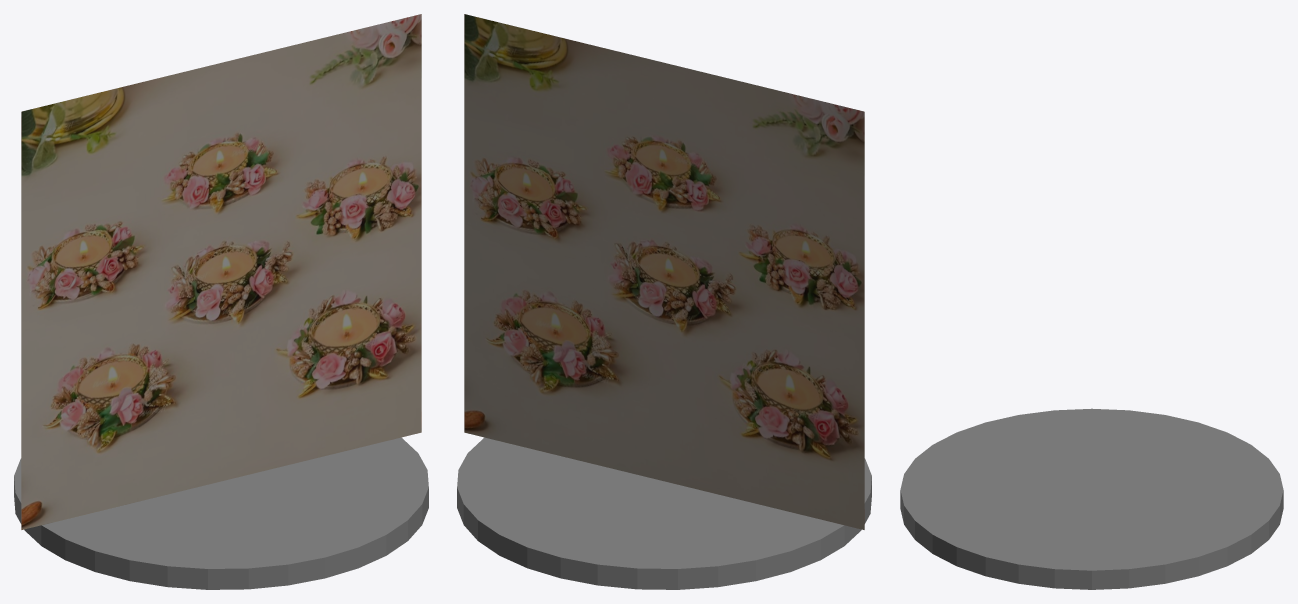
Rendered from B0DQXTCQXZ.glb.
3 views of the same model, side by side, from view 1: azimuth 30°, elevation 25°; view 2: azimuth 150°, elevation 25°; view 3: azimuth 270°, elevation 25° (orthographic). The views are drawn at different scales.
Parts seen in each view (by area): view 1: photo, base; view 2: photo, base; view 3: base.
Part boxes in pixels (bbox=[...]): photo: bbox=[21, 14, 421, 529]; base: bbox=[14, 437, 428, 589]; photo: bbox=[464, 14, 864, 529]; base: bbox=[457, 437, 871, 589]; base: bbox=[900, 408, 1283, 589].
Size of the model in its own units: 0.4 by 0.42 by 0.36.
Materials: 1 (1 with a texture image).
